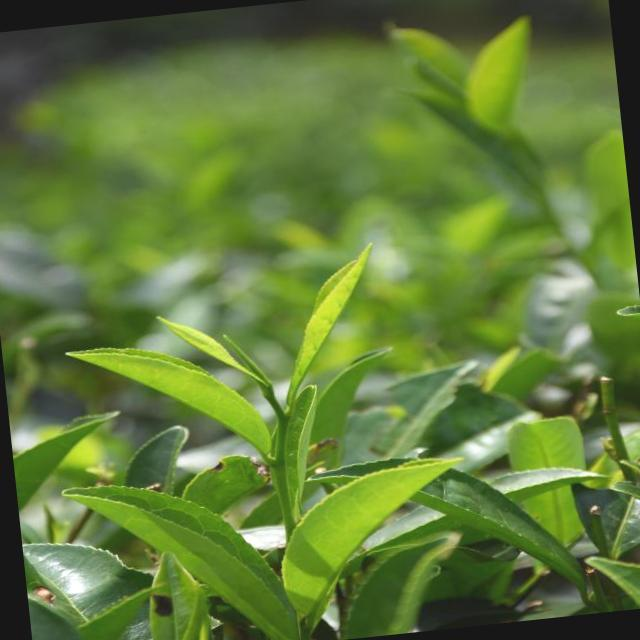Stem: (275, 420, 288, 450)
